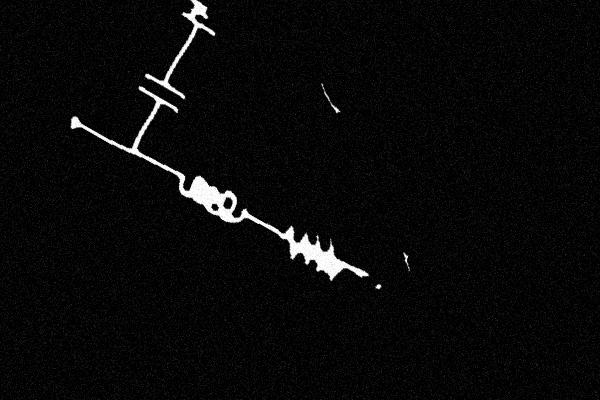capacitor: (132, 61, 191, 122)
ground: (174, 0, 226, 45)
inductor: (164, 159, 263, 239)
resistor: (267, 209, 359, 292)
